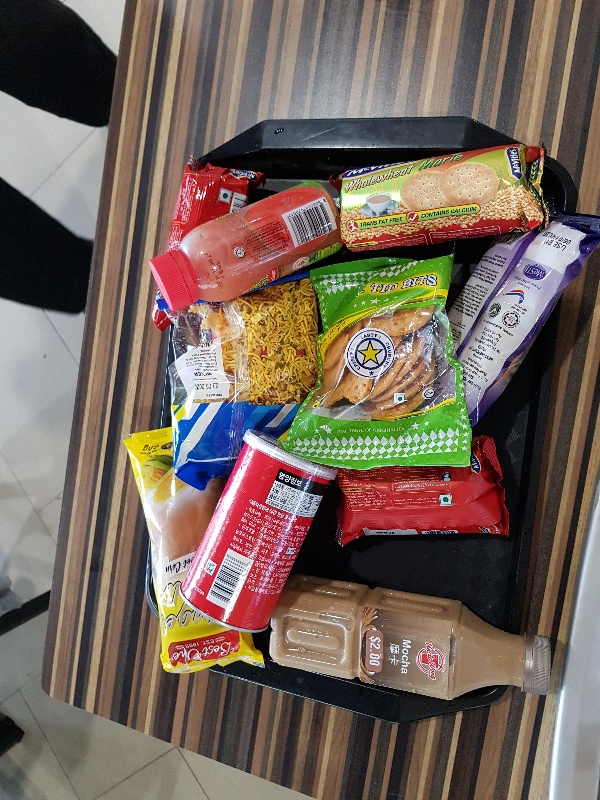Marigold Peel Fresh Pink Guava Juice Drink: (149, 180, 339, 310)
McVitie's Ginger Cookies: (335, 435, 510, 547)
McVitie's Wholewheat Marie: (337, 144, 547, 252)
Mcvitie's Digestive: (153, 154, 264, 328)
Mocha: (267, 575, 551, 702)
Pringles Original: (177, 428, 332, 633)
Star Tidbits 'O' Ring: (277, 254, 472, 467)
Star Tidbits Mixer: (165, 274, 317, 489)
Tinges Roll Chocolate: (448, 216, 600, 428)
Tinges Roll Sweet Corn: (122, 425, 266, 674)
